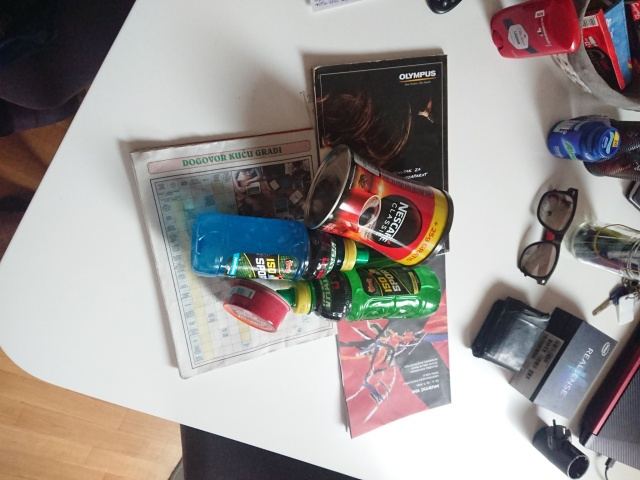Gavrilovic Pork Liver Pate 100g: (221, 276, 293, 335)
Nescafe Classic 225g: (302, 142, 456, 270)
Vindi Iso Sport Forest Strawberries 500mL: (188, 208, 373, 284)
Vindi Iso Sport Lemon-Grapefruit 500mL: (273, 263, 445, 324)
